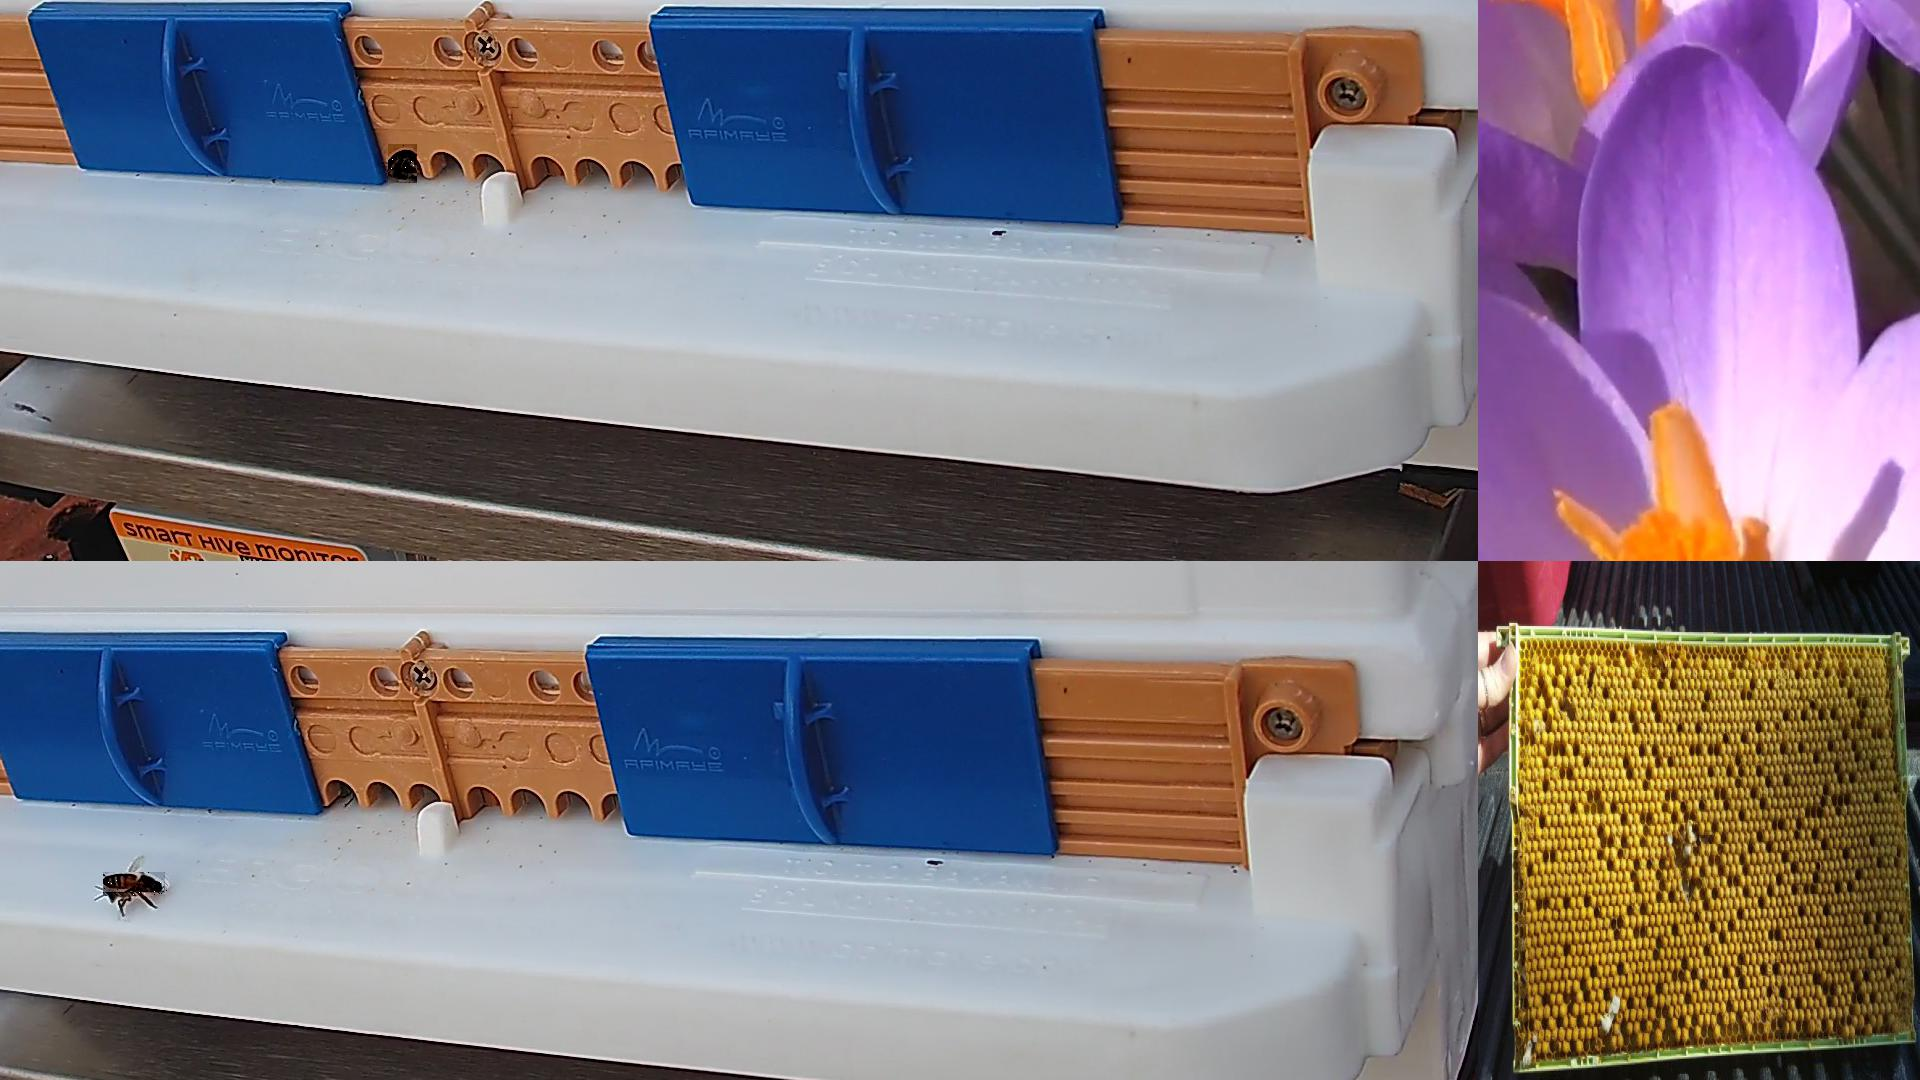bee: (104, 873, 169, 897), (388, 144, 418, 185)
